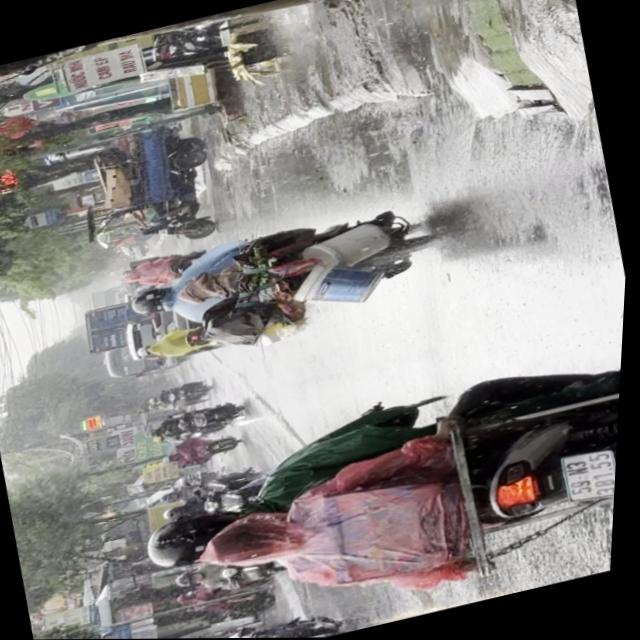helmet: (200, 505, 308, 579), (143, 507, 242, 575), (127, 286, 178, 321)
licenseplate: (114, 339, 626, 639), (114, 187, 479, 372), (189, 604, 362, 639)
nohelmet: (562, 449, 622, 505)
